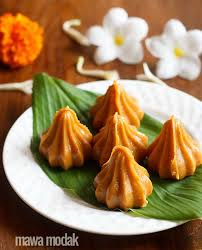modak: (93, 147, 158, 212), (152, 103, 202, 186), (39, 106, 94, 171), (83, 81, 150, 131), (95, 112, 152, 168)
